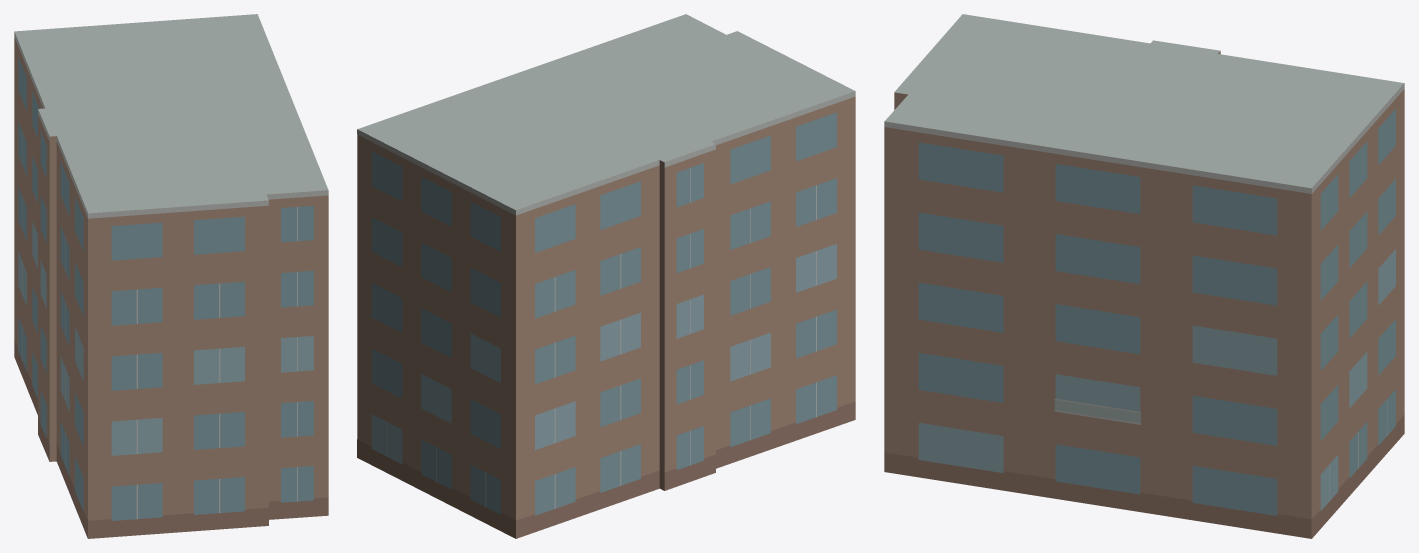
Rendered from survey-upis-32493750.glb.
3 views of the same model, side by side, from view 1: azimuth 30°, elevation 25°; view 2: azimuth 150°, elevation 25°; view 3: azimuth 270°, elevation 25° (orthographic). The views are drawn at different scales.
Visible parts, largest first — view 1: survey-upis-32493750.tmp; view 2: survey-upis-32493750.tmp; view 3: survey-upis-32493750.tmp.
Boxes of the visible parts, x1,y1,x2,y2 form: survey-upis-32493750.tmp: (14,14,328,538); survey-upis-32493750.tmp: (357,14,855,538); survey-upis-32493750.tmp: (884,14,1404,538).
Size of the model in its own units: 16.28 by 15.25 by 20.52.
